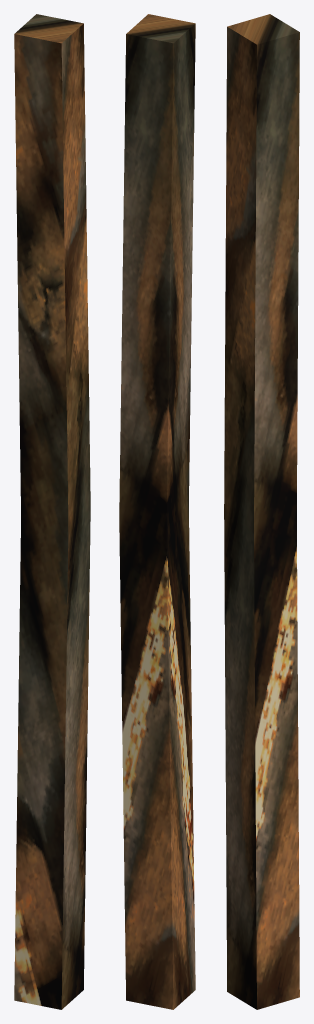
File: ColdZone_Log_S_5.gltf
3 renders of one model, left to right at view 1: azimuth 30°, elevation 25°; view 2: azimuth 210°, elevation 25°; view 3: azimuth 270°, elevation 25°, orthographic.
Parts seen in each view (by area): view 1: ColdZone_Log_S_5; view 2: ColdZone_Log_S_5; view 3: ColdZone_Log_S_5.
Part boxes in pixels (x1,y1,x2,y2): ColdZone_Log_S_5: (14, 14, 90, 1009); ColdZone_Log_S_5: (119, 14, 195, 1009); ColdZone_Log_S_5: (224, 14, 299, 1009).
Size of the model in its own units: 1.02 by 13.73 by 0.9768.
Materials: 1 (1 with a texture image).
